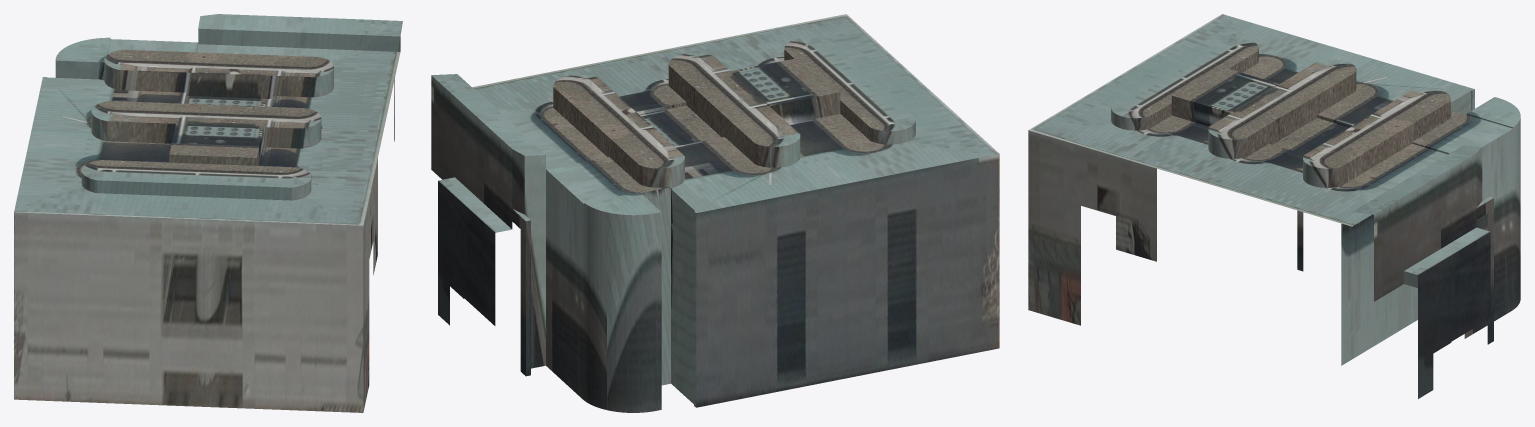
3 views of the same model, side by side, from view 1: azimuth 30°, elevation 25°; view 2: azimuth 150°, elevation 25°; view 3: azimuth 270°, elevation 25° (orthographic). The views are drawn at different scales.
Parts seen in each view (by area): view 1: Z_UP; view 2: Z_UP; view 3: Z_UP.
Part boxes in pixels (x1,y1,x2,y2): Z_UP: (14,14,402,412); Z_UP: (431,14,999,412); Z_UP: (1028,14,1520,398).
Size of the model in its own units: 58.04 by 24.66 by 55.09.
Materials: 8 (7 with a texture image).
